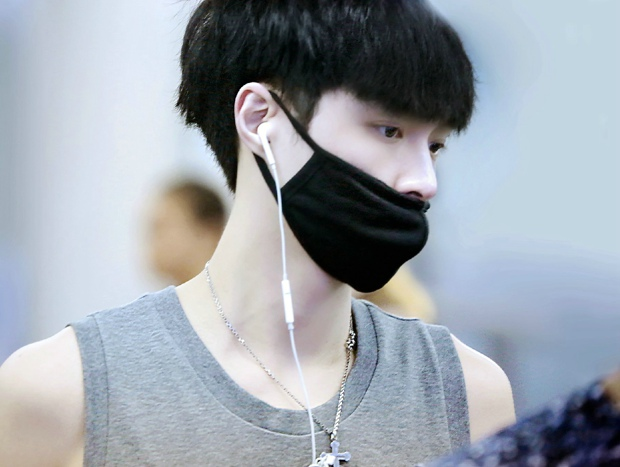face_mask: (278, 64, 451, 261)
